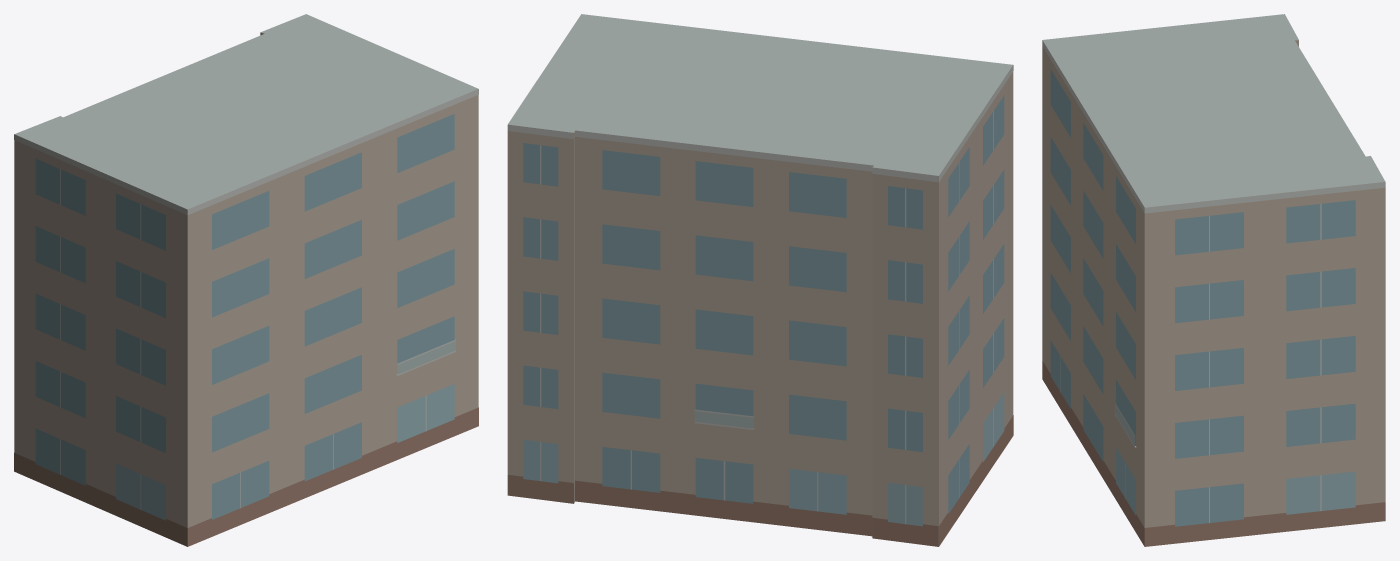
File: survey-upis-33002879.glb
The picture shows the model from 3 angles, left to right: view 1: azimuth 30°, elevation 25°; view 2: azimuth 150°, elevation 25°; view 3: azimuth 270°, elevation 25°; orthographic projection. The views are drawn at different scales.
Visible parts, largest first — view 1: survey-upis-33002879.tmp; view 2: survey-upis-33002879.tmp; view 3: survey-upis-33002879.tmp.
Boxes of the visible parts, box(x1,y1,x2,y2) form: survey-upis-33002879.tmp: box(14, 14, 478, 546); survey-upis-33002879.tmp: box(507, 14, 1013, 546); survey-upis-33002879.tmp: box(1042, 14, 1385, 546).
Size of the model in its own units: 17.52 by 14.3 by 13.13.
